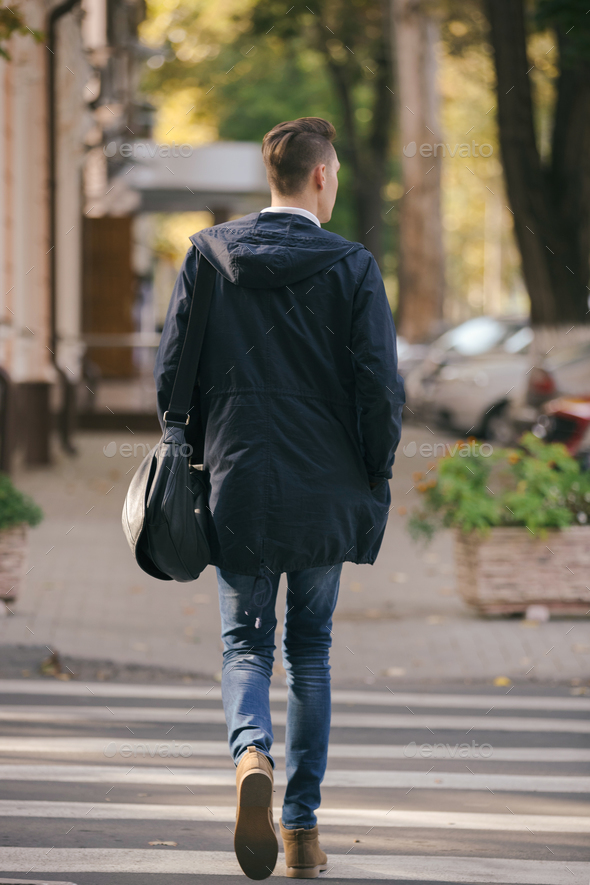person: (118, 113, 405, 881)
